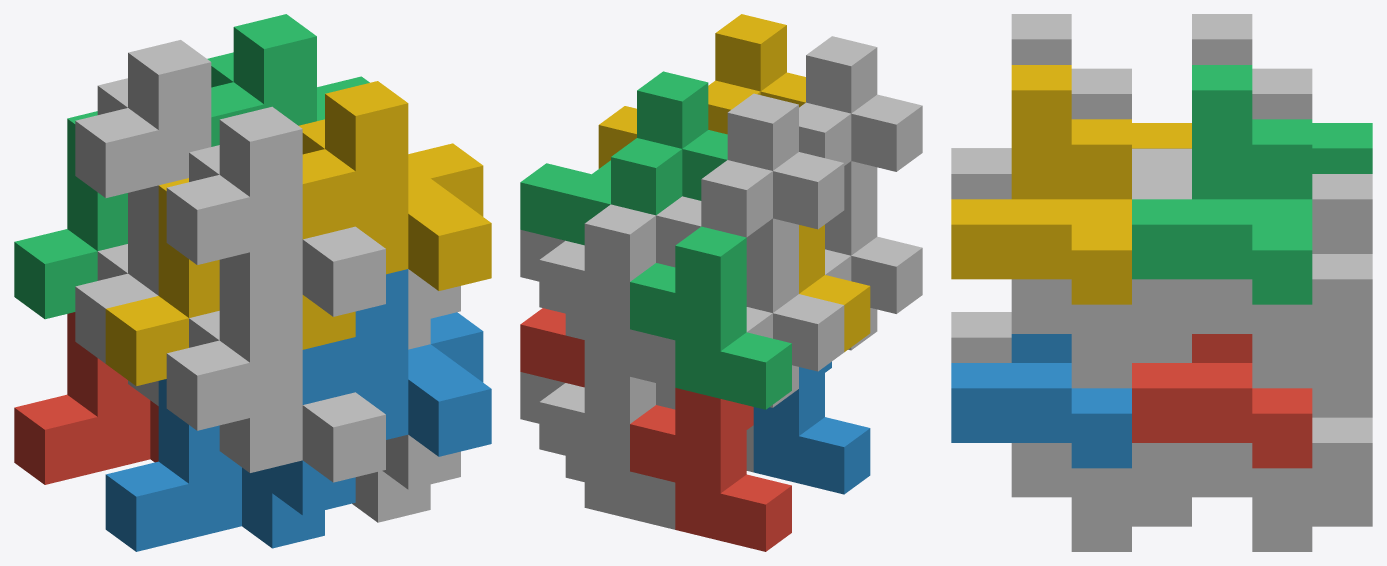
Rendered from tiling.obj.
3 views of the same model, side by side, from view 1: azimuth 30°, elevation 25°; view 2: azimuth 150°, elevation 25°; view 3: azimuth 270°, elevation 25° (orthographic). The views are drawn at different scales.
Visible parts, largest first — view 1: copy_2_domain_4, copy_2_domain_8, copy_2_domain_2, copy_1_domain_2, copy_2_domain_6, copy_2_domain_3, copy_1_domain_1, copy_1_domain_4, copy_2_domain_7, copy_1_domain_3, copy_2_domain_1, copy_1_domain_6 (+1 smaller); view 2: copy_1_domain_3, copy_2_domain_3, copy_2_domain_7, copy_1_domain_1, copy_1_domain_7, copy_1_domain_5, copy_2_domain_4, copy_1_domain_2, copy_2_domain_8, copy_2_domain_1, copy_2_domain_2, copy_1_domain_4 (+1 smaller); view 3: copy_2_domain_7, copy_2_domain_8, copy_1_domain_7, copy_1_domain_5, copy_2_domain_5, copy_2_domain_6, copy_1_domain_8, copy_1_domain_6, copy_2_domain_4, copy_2_domain_3, copy_1_domain_3, copy_2_domain_2 (+1 smaller).
Boxes of the visible parts, left/top/right/bottom form: copy_2_domain_4: left=166, top=106, right=385, bottom=316; copy_2_domain_8: left=298, top=81, right=491, bottom=290; copy_2_domain_2: left=166, top=285, right=385, bottom=482; copy_1_domain_2: left=105, top=379, right=355, bottom=551; copy_2_domain_6: left=302, top=269, right=491, bottom=456; copy_2_domain_3: left=75, top=40, right=211, bottom=240; copy_1_domain_1: left=14, top=312, right=158, bottom=484; copy_1_domain_4: left=105, top=178, right=355, bottom=386; copy_2_domain_7: left=207, top=14, right=369, bottom=146; copy_1_domain_3: left=14, top=111, right=127, bottom=319; copy_2_domain_1: left=75, top=218, right=158, bottom=405; copy_1_domain_6: left=352, top=434, right=460, bottom=522; copy_1_domain_3: left=630, top=226, right=791, bottom=409; copy_2_domain_3: left=656, top=93, right=844, bottom=267; copy_2_domain_7: left=520, top=71, right=727, bottom=245; copy_1_domain_1: left=630, top=388, right=791, bottom=551; copy_1_domain_7: left=520, top=204, right=675, bottom=387; copy_1_domain_5: left=520, top=366, right=675, bottom=529; copy_2_domain_4: left=799, top=36, right=922, bottom=208; copy_1_domain_2: left=753, top=361, right=870, bottom=494; copy_2_domain_8: left=598, top=14, right=805, bottom=168; copy_2_domain_1: left=656, top=247, right=844, bottom=409; copy_2_domain_2: left=825, top=189, right=922, bottom=350; copy_1_domain_4: left=799, top=224, right=870, bottom=351; copy_2_domain_7: left=1132, top=65, right=1312, bottom=304; copy_2_domain_8: left=951, top=65, right=1131, bottom=304; copy_1_domain_7: left=1192, top=174, right=1372, bottom=388; copy_1_domain_5: left=1192, top=363, right=1372, bottom=551; copy_2_domain_5: left=1132, top=334, right=1312, bottom=468; copy_2_domain_6: left=951, top=334, right=1131, bottom=468; copy_1_domain_8: left=1011, top=174, right=1191, bottom=388; copy_1_domain_6: left=1011, top=443, right=1191, bottom=551; copy_2_domain_4: left=951, top=14, right=1131, bottom=199; copy_2_domain_3: left=1132, top=14, right=1312, bottom=173; copy_1_domain_3: left=1312, top=123, right=1372, bottom=173; copy_2_domain_2: left=951, top=312, right=1011, bottom=362.
Size of the model in its own units: 6 by 8 by 7.
